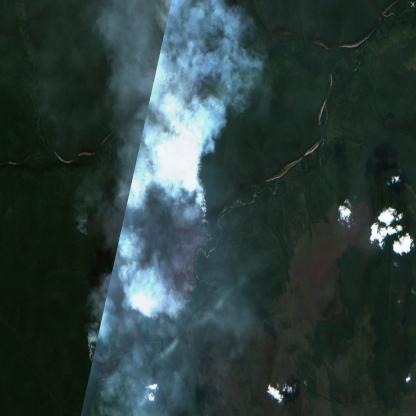fire: (80, 125, 213, 381)
